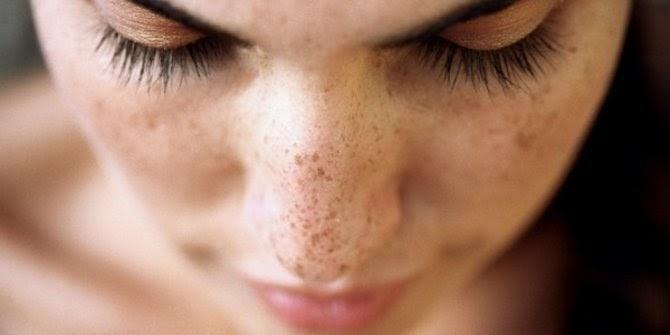Dark-Spots: (256, 62, 401, 286), (407, 66, 592, 216), (88, 91, 253, 197)
